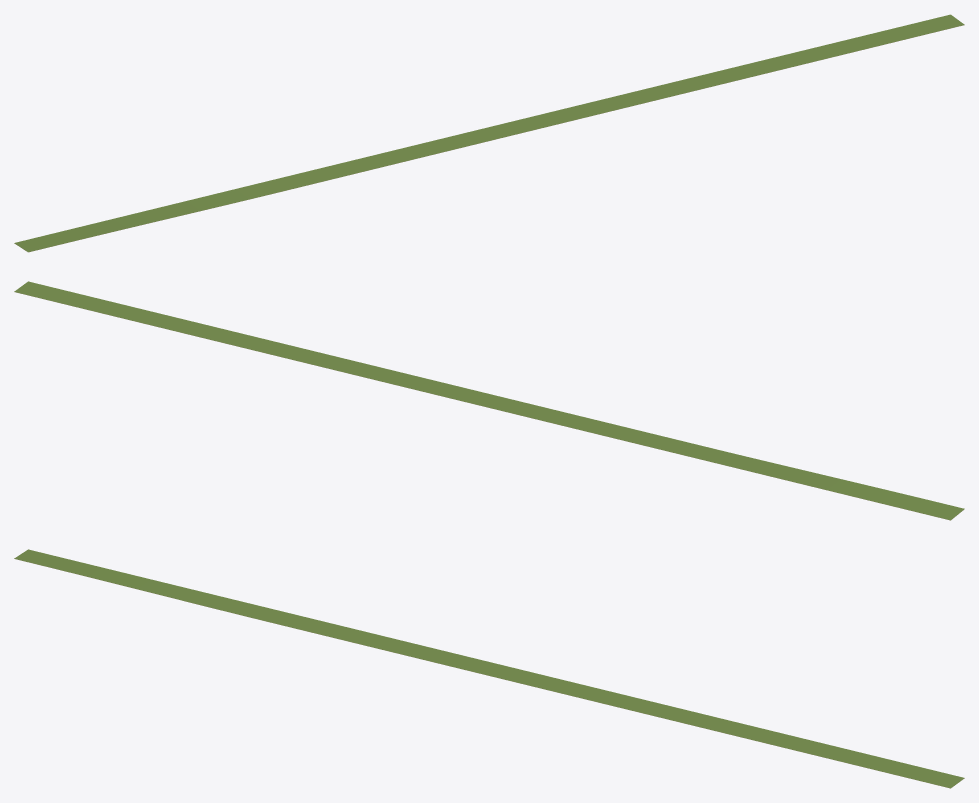
File: region_3_-2.glb
The picture shows the model from 3 angles, top to bottom: view 1: azimuth 30°, elevation 25°; view 2: azimuth 150°, elevation 25°; view 3: azimuth 330°, elevation 25°; orthographic projection.
Visible parts, largest first — view 1: OD_Meadow.028; view 2: OD_Meadow.028; view 3: OD_Meadow.028.
Boxes of the visible parts, box(x1,y1,x2,y2) form: OD_Meadow.028: box(14, 14, 964, 252); OD_Meadow.028: box(14, 281, 964, 520); OD_Meadow.028: box(14, 549, 964, 788).
Size of the model in its own units: 31.52 by 0.0417 by 0.8294.
